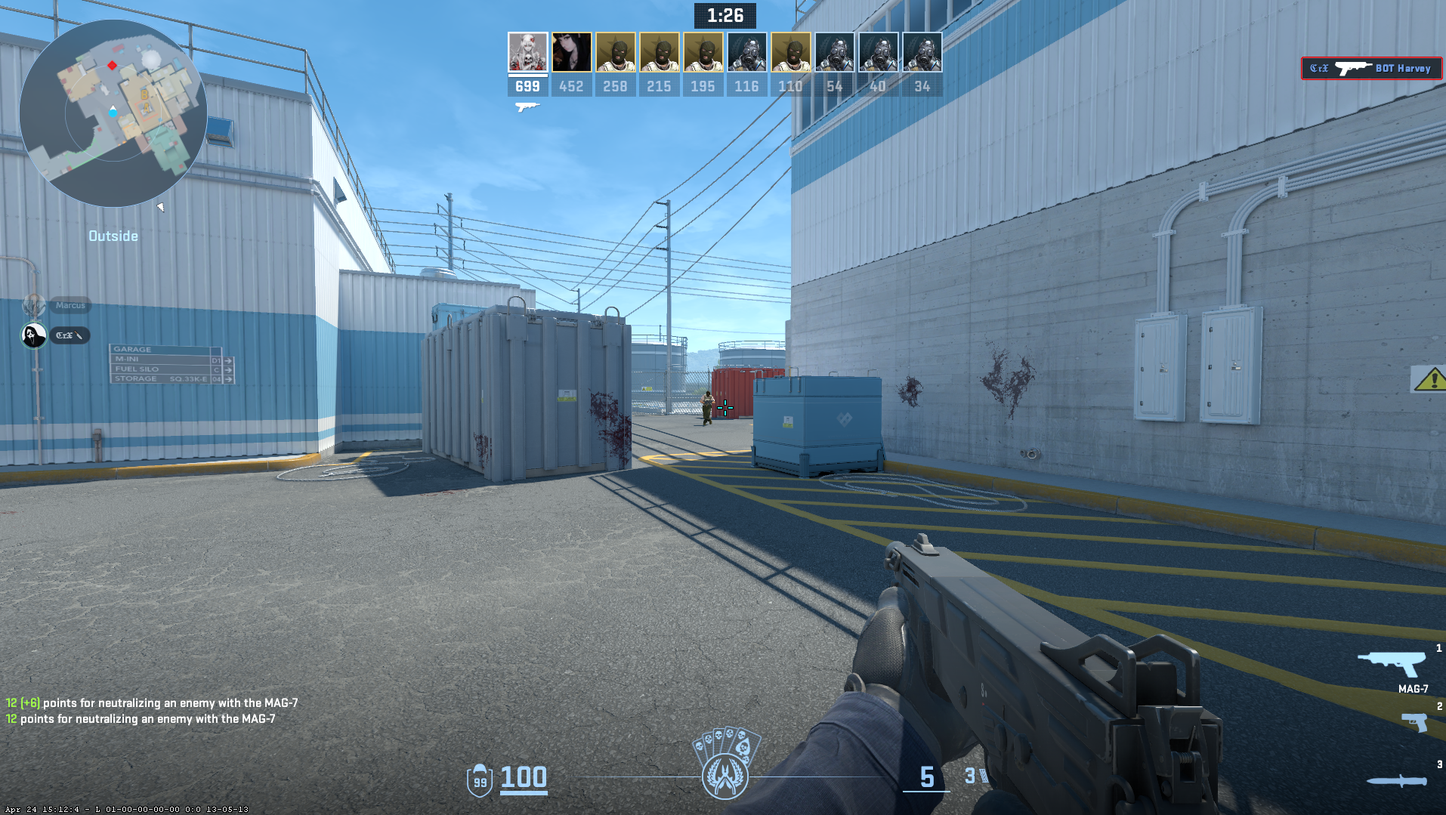T: (700, 390, 715, 425)
